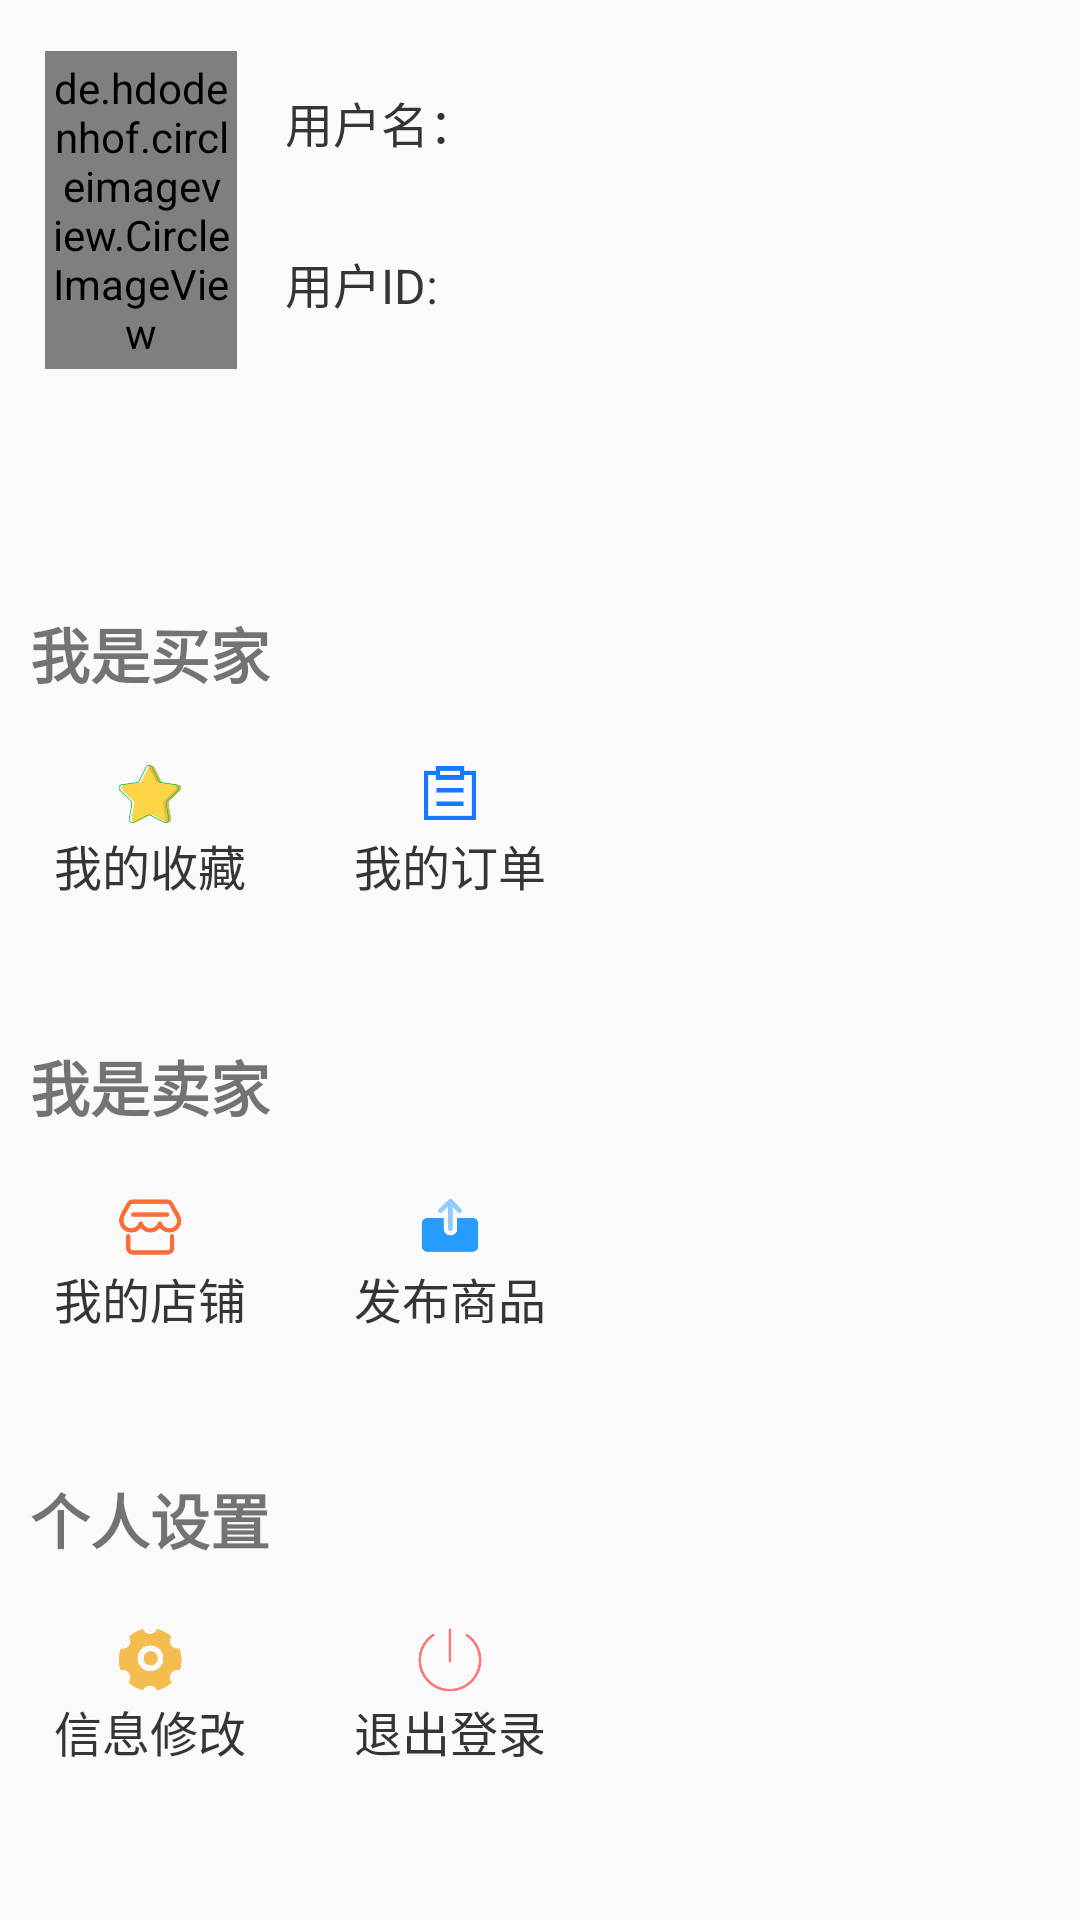

Icon bounding boxes for this 1080×1920 phone screenshot, format (x1, y1, x2, y2):
setting: (119, 1629, 182, 1690)
